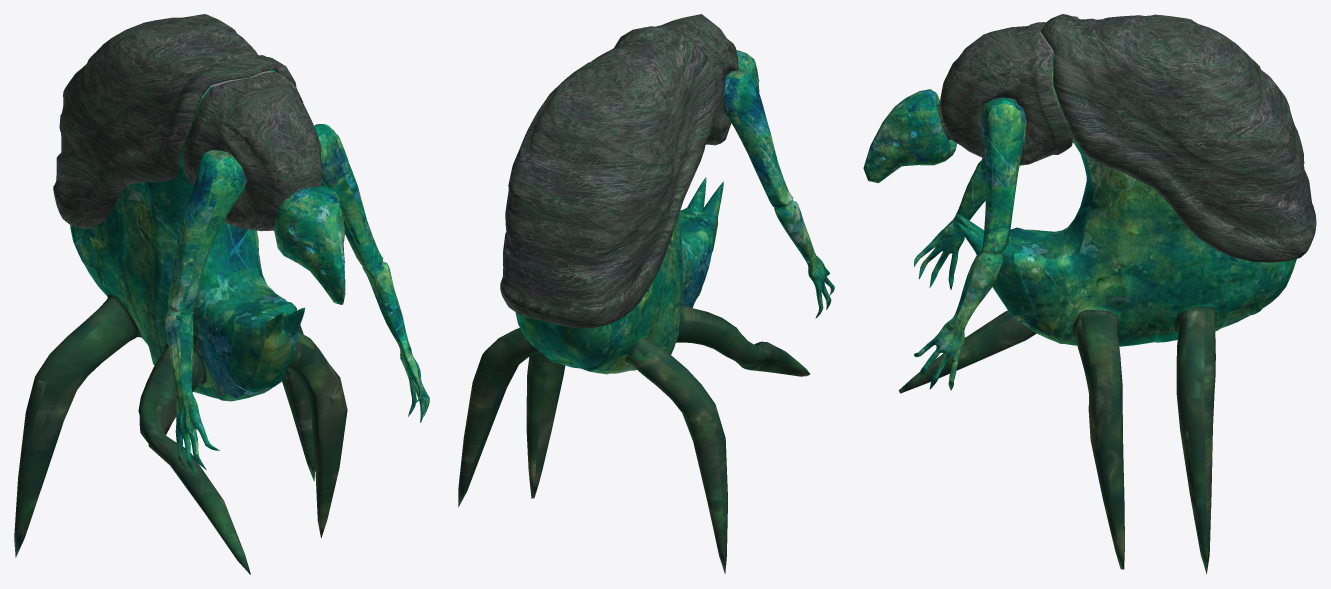
The model's file is Andar.0007.obj.
3 renders of one model, left to right at view 1: azimuth 30°, elevation 25°; view 2: azimuth 150°, elevation 25°; view 3: azimuth 270°, elevation 25°, orthographic. The views are drawn at different scales.
Parts seen in each view (by area): view 1: pCube14; view 2: pCube14; view 3: pCube14.
Part boxes in pixels (left/top/right/bottom): pCube14: left=14, top=14, right=429, bottom=574; pCube14: left=458, top=14, right=834, bottom=574; pCube14: left=863, top=14, right=1316, bottom=574.
Bounding box in the file's own units: 2.33 × 3.92 × 3.26.
Materials: 5 (4 with a texture image).
